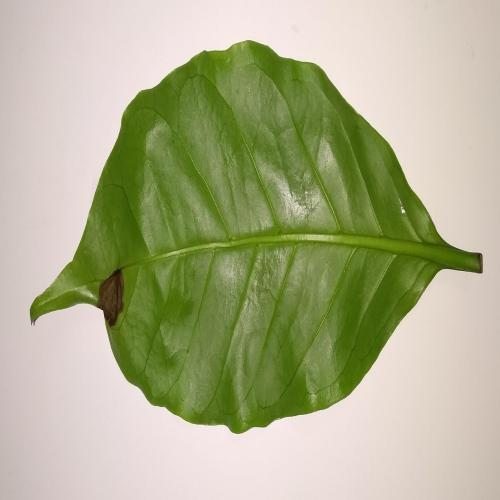leaf: (24, 34, 486, 442)
phoma: (92, 265, 130, 339)
